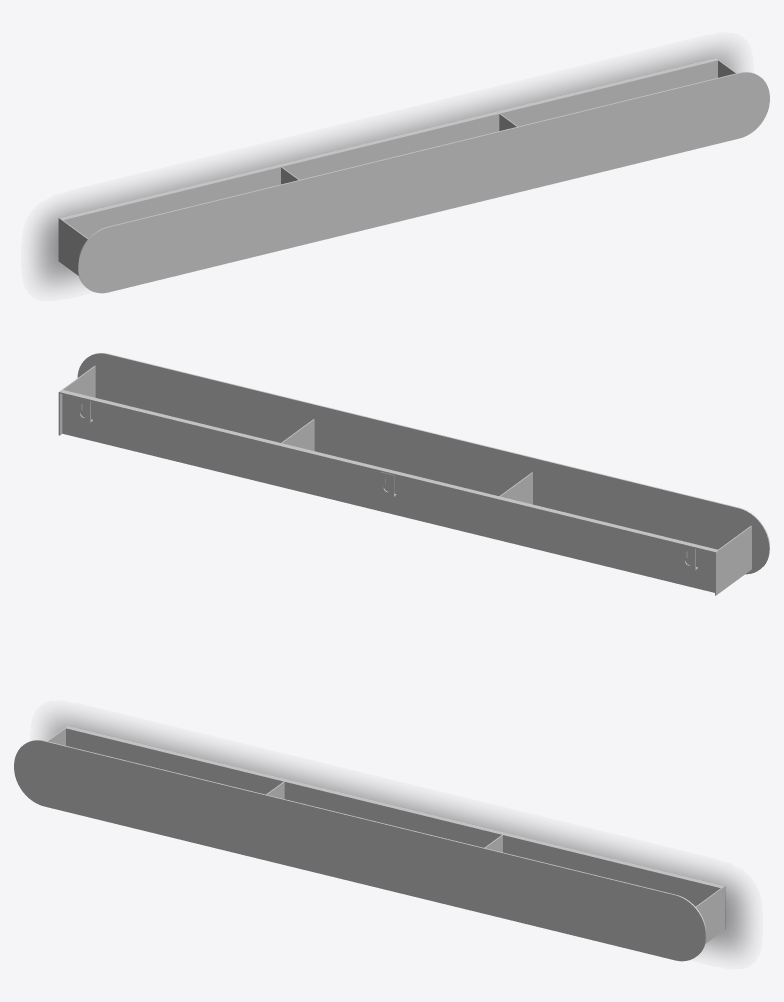
The model's file is round-mono.e148f8e58a.ar.glb.
The picture shows the model from 3 angles, top to bottom: view 1: azimuth 30°, elevation 25°; view 2: azimuth 150°, elevation 25°; view 3: azimuth 330°, elevation 25°; orthographic projection.
Visible parts, largest first — view 1: NAUO1, object 2; view 2: NAUO1; view 3: NAUO1, object 2.
Part boxes in pixels (x1,y1,x2,y2): NAUO1: [58, 58, 769, 293]; object 2: [35, 48, 739, 285]; NAUO1: [58, 353, 769, 595]; NAUO1: [14, 726, 725, 961]; object 2: [44, 716, 748, 953].
Size of the model in its own units: 1.08 by 0.17 by 0.0926.
2 materials, 1 textured.
